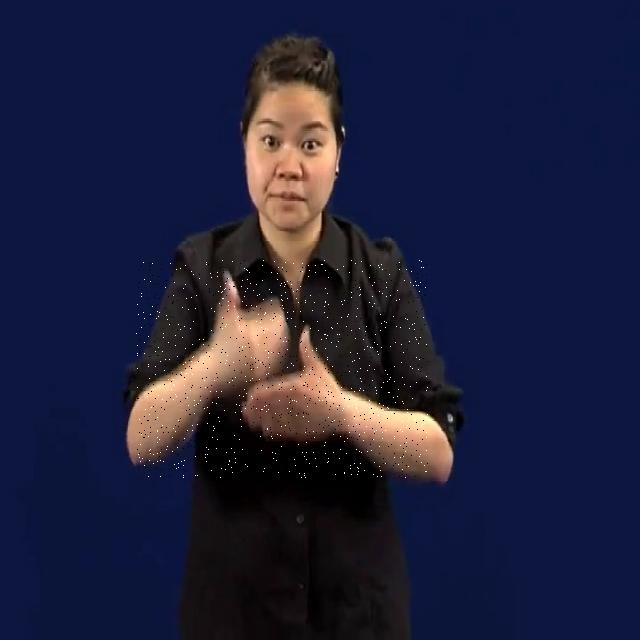bread: (136, 260, 428, 478)
